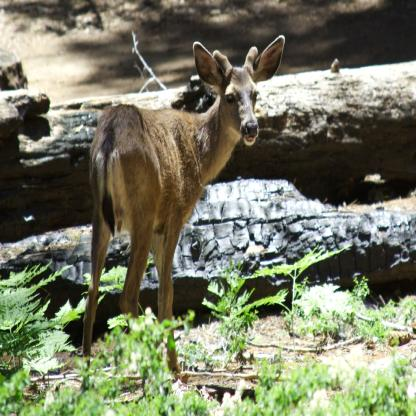Deer: (80, 34, 283, 382)
